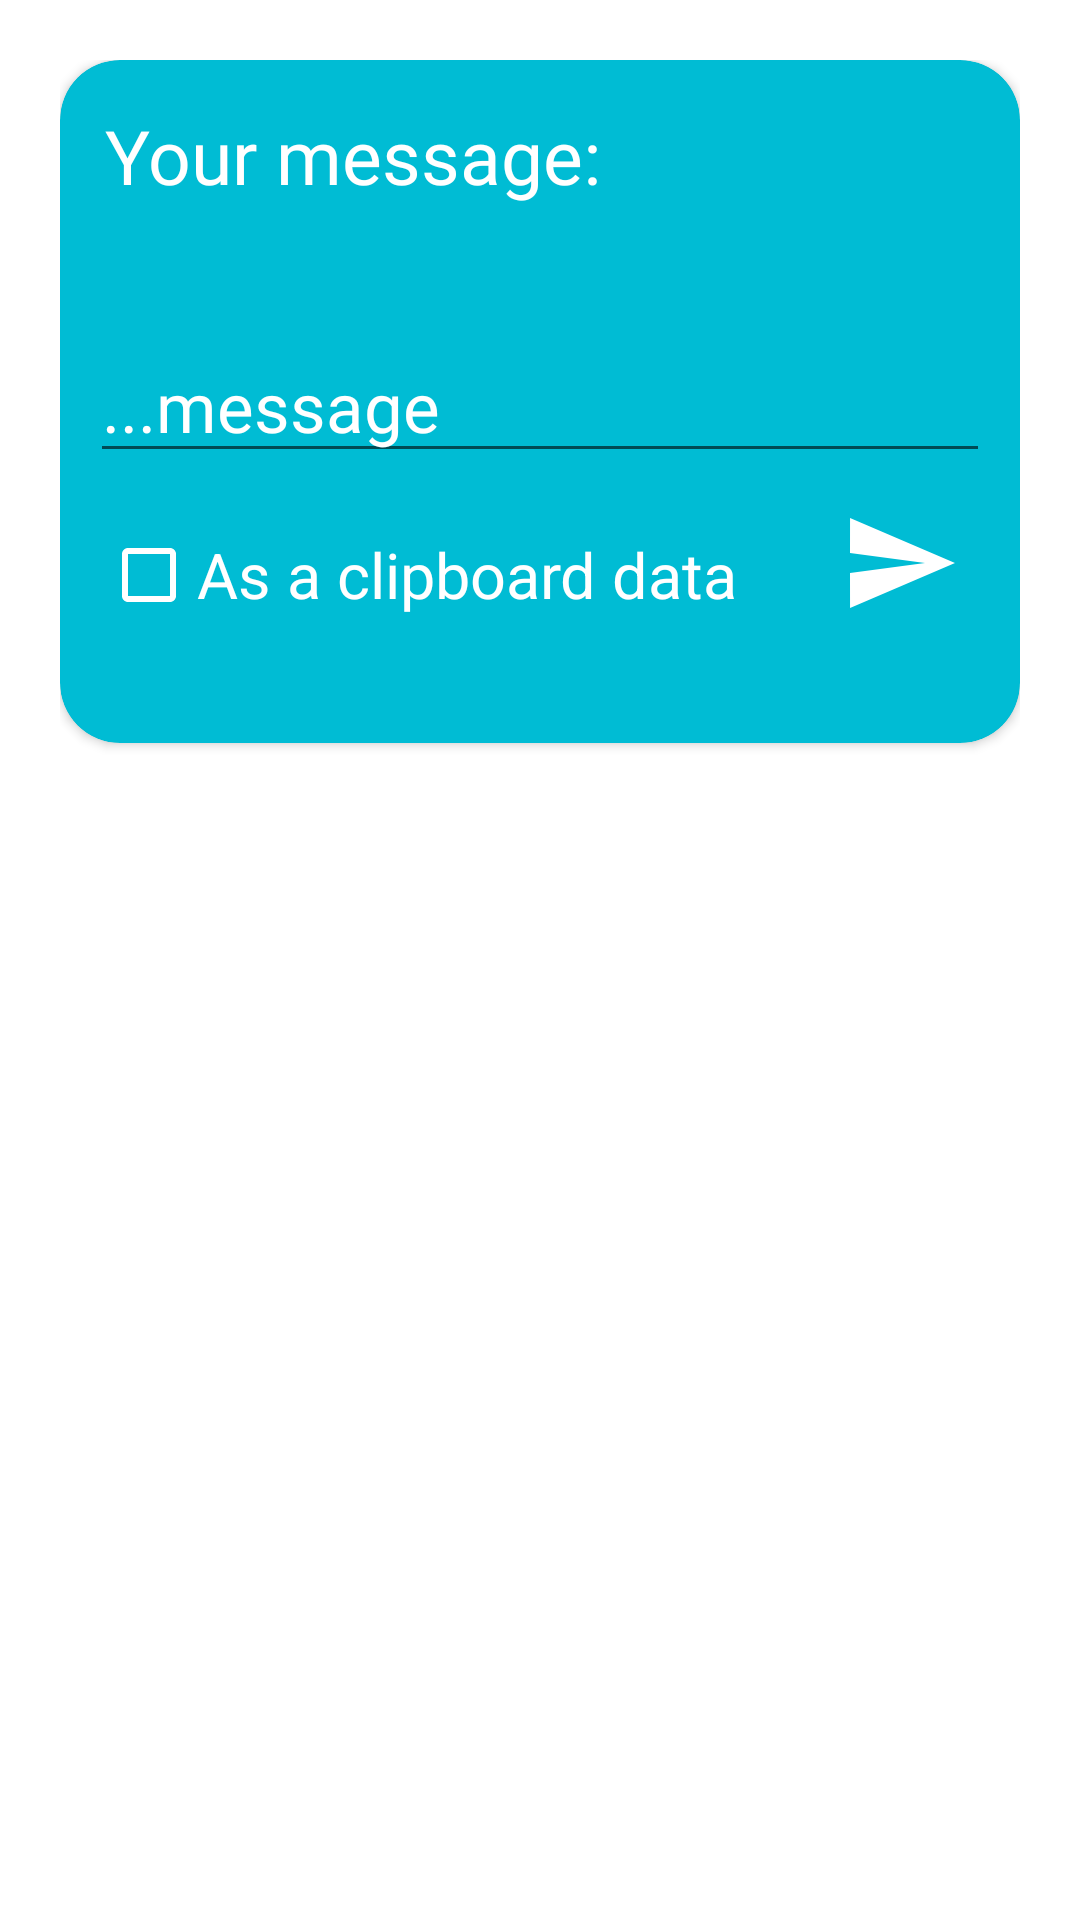

Screen size 1080*1920. Icon name, then its box in pixels as (x1, y1, x2, y2):
send: (850, 518, 955, 608)
